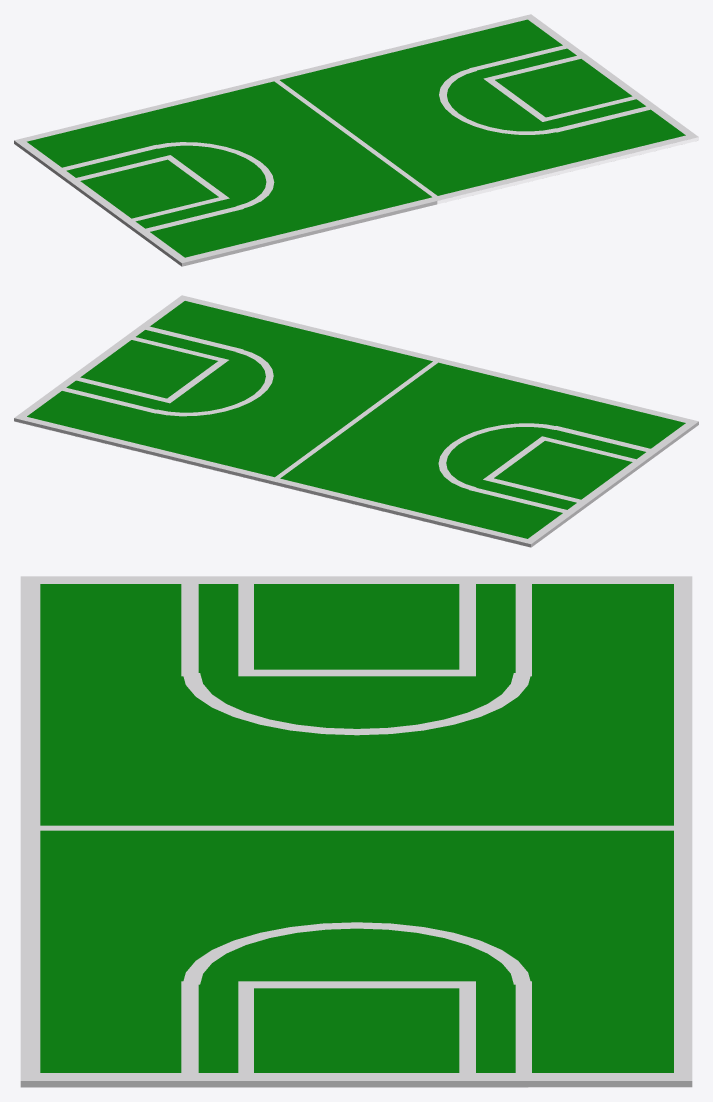
File: basketballcourt.fbx
The picture shows the model from 3 angles, top to bottom: view 1: azimuth 30°, elevation 25°; view 2: azimuth 150°, elevation 25°; view 3: azimuth 270°, elevation 25°; orthographic projection. The views are drawn at different scales.
Visible parts, largest first — view 1: Circle.002; view 2: Circle.002; view 3: Circle.002.
Part boxes in pixels (x1,y1,x2,y2): Circle.002: [14, 14, 698, 266]; Circle.002: [14, 295, 698, 547]; Circle.002: [20, 576, 692, 1087].
Size of the model in its own units: 3038 by 90.14 by 1709.
